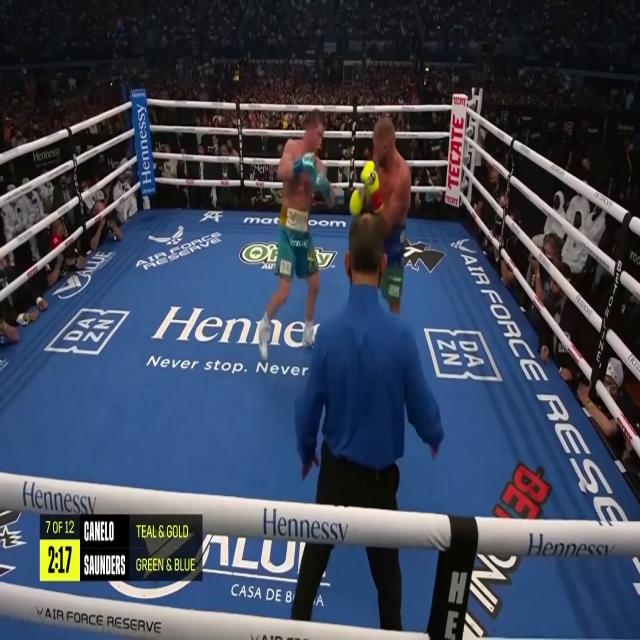boxer_1: (373, 117, 410, 221)
boxer_2: (278, 111, 323, 213)
gloves_1: (349, 161, 382, 215)
gloves_2: (293, 152, 314, 178), (311, 172, 330, 197)
